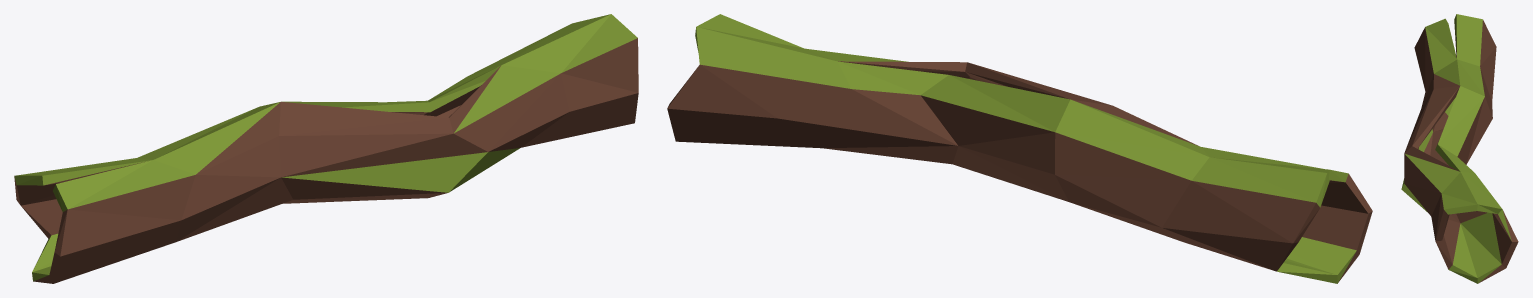
The model's file is Wooden Log_1_Moss.fbx.
The picture shows the model from 3 angles, left to right: view 1: azimuth 30°, elevation 25°; view 2: azimuth 150°, elevation 25°; view 3: azimuth 270°, elevation 25°; orthographic projection. The views are drawn at different scales.
Visible parts, largest first — view 1: Wooden Log_1_Moss; view 2: Wooden Log_1_Moss; view 3: Wooden Log_1_Moss.
Part boxes in pixels (x1,y1,x2,y2): Wooden Log_1_Moss: [14, 14, 638, 283]; Wooden Log_1_Moss: [667, 14, 1372, 283]; Wooden Log_1_Moss: [1401, 14, 1518, 283].
Bounding box in the file's own units: 2.41 × 0.4384 × 0.5825.
